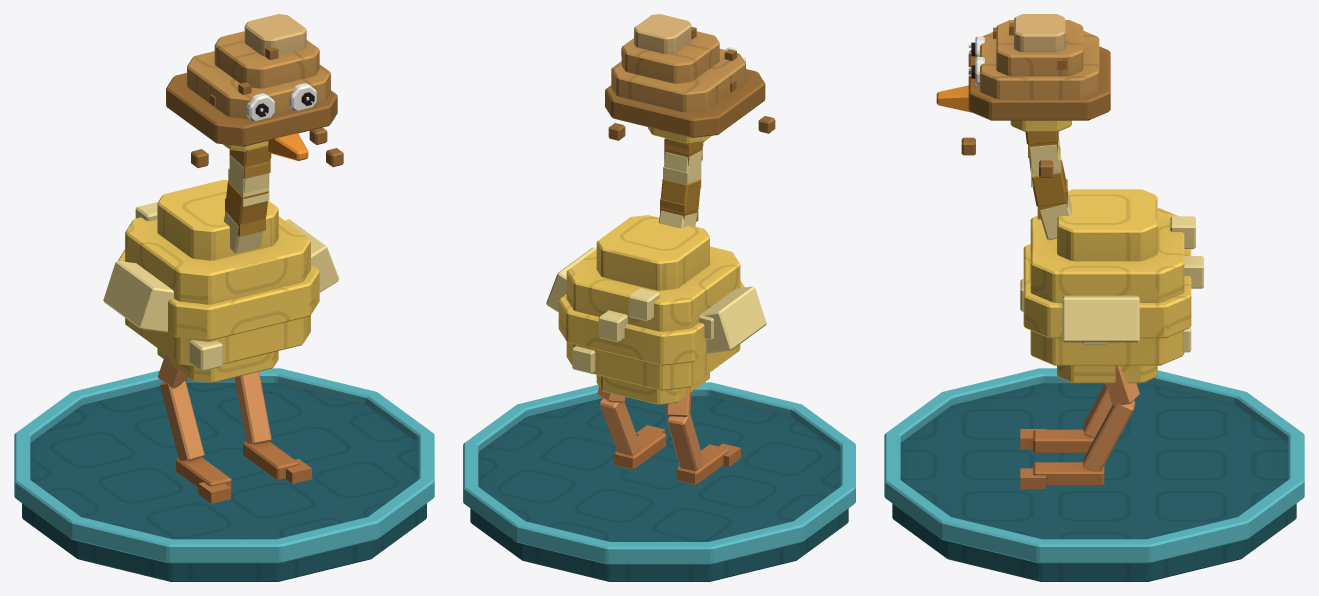
The model's file is SandChick.fbx.
3 views of the same model, side by side, from view 1: azimuth 30°, elevation 25°; view 2: azimuth 150°, elevation 25°; view 3: azimuth 270°, elevation 25° (orthographic). The views are drawn at different scales.
Parts seen in each view (by area): view 1: Art_SandChick_Stand, Art_SandChick_Body, Art_SandChick_Head, Art_SandChick_LegL, Art_SandChick_Neck, Art_SandChick_LegR, Art_SandChick_WingL, Art_SandChick_WingR; view 2: Art_SandChick_Stand, Art_SandChick_Body, Art_SandChick_Head, Art_SandChick_Neck, Art_SandChick_LegL, Art_SandChick_WingL, Art_SandChick_LegR, Art_SandChick_WingR; view 3: Art_SandChick_Stand, Art_SandChick_Body, Art_SandChick_Head, Art_SandChick_LegR, Art_SandChick_WingR, Art_SandChick_Neck, Art_SandChick_LegL.
Boxes of the visible parts, x1,y1,x2,y2 form: Art_SandChick_Stand: [14, 368, 434, 581]; Art_SandChick_Body: [118, 179, 319, 382]; Art_SandChick_Head: [166, 14, 343, 167]; Art_SandChick_LegL: [158, 354, 231, 503]; Art_SandChick_Neck: [223, 146, 271, 253]; Art_SandChick_LegR: [234, 371, 311, 483]; Art_SandChick_WingL: [103, 261, 173, 332]; Art_SandChick_WingR: [285, 219, 339, 292]; Art_SandChick_Stand: [463, 382, 855, 581]; Art_SandChick_Body: [558, 215, 744, 404]; Art_SandChick_Head: [605, 14, 775, 143]; Art_SandChick_Neck: [658, 138, 703, 228]; Art_SandChick_LegL: [666, 387, 740, 484]; Art_SandChick_WingL: [701, 286, 766, 353]; Art_SandChick_LegR: [597, 387, 666, 469]; Art_SandChick_WingR: [546, 247, 596, 312]; Art_SandChick_Stand: [884, 368, 1304, 581]; Art_SandChick_Body: [1020, 189, 1203, 383]; Art_SandChick_Head: [936, 14, 1110, 177]; Art_SandChick_LegR: [1020, 365, 1139, 488]; Art_SandChick_WingR: [1062, 295, 1139, 342]; Art_SandChick_Neck: [1025, 131, 1071, 240]; Art_SandChick_LegL: [1020, 383, 1112, 453].
Bounding box in the file's own units: 2.61 × 3.32 × 2.61.
